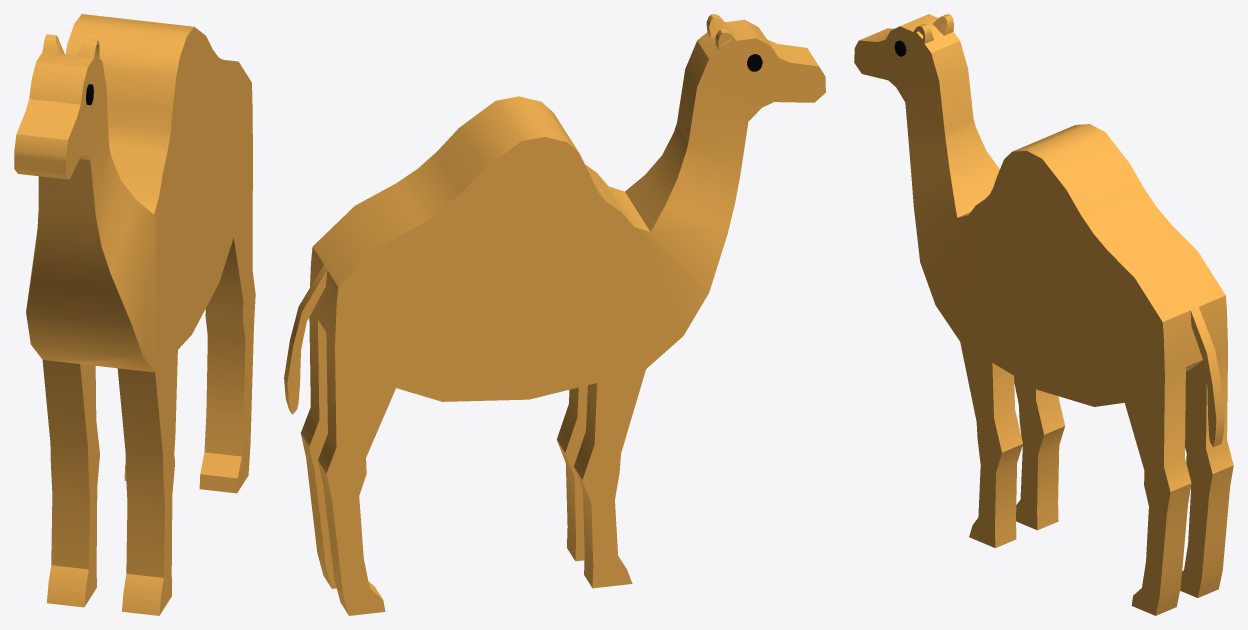
The model's file is camel.glb.
3 views of the same model, side by side, from view 1: azimuth 30°, elevation 25°; view 2: azimuth 150°, elevation 25°; view 3: azimuth 270°, elevation 25° (orthographic). The views are drawn at different scales.
Visible parts, largest first — view 1: Plane.126; view 2: Plane.126; view 3: Plane.126.
Boxes of the visible parts, x1,y1,x2,y2 form: Plane.126: [14, 14, 255, 615]; Plane.126: [284, 14, 825, 615]; Plane.126: [854, 14, 1233, 615].
Size of the model in its own units: 1.53 by 2.11 by 1.53.
Materials: 1 (1 with a texture image).
